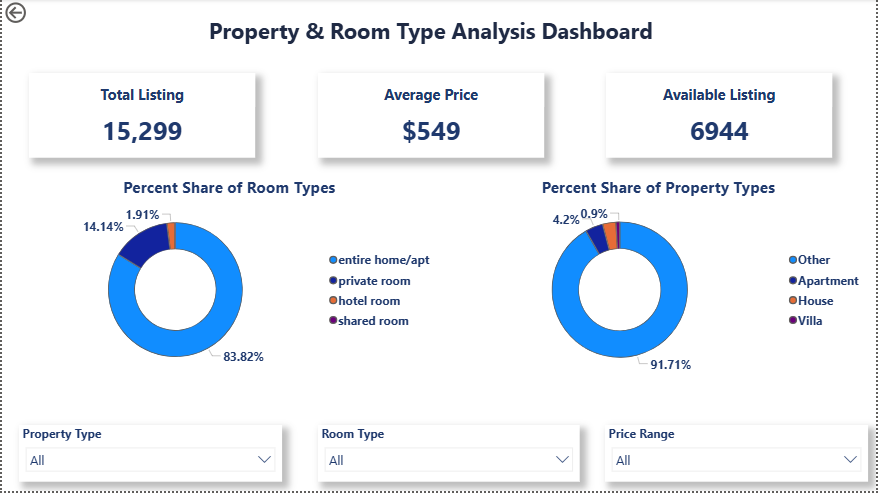

This screenshot's page, from the dashboard's own definition file:
{"tool":"powerbi","page":{"name":"Property & room type analysis","canvas":[1280,720],"ordinal":1},"visuals":[{"type":"donutChart","title":"Percent Share of Room Types","fields":{"Category":["M4_pro.room_type"],"Y":["M4_pro.Room Type % Share"]},"box":[25.1,259.8,615.6,299.7],"z":0},{"type":"card","title":"Total Listing","fields":{"Values":["M4_pro.Listings Count"]},"box":[39.9,107.8,330.7,124],"z":1000},{"type":"slicer","title":"Price Range","fields":{"Values":["M4_pro.Price Category"]},"box":[882.9,622.9,384.6,82.5],"z":2000},{"type":"textbox","box":[156.5,11.8,941.9,82.7],"z":3000},{"type":"card","title":"Average Price","fields":{"Values":["M4_pro.Average Price"]},"box":[462.1,107.8,330.7,124],"z":4000},{"type":"card","title":"Available Listing","fields":{"Values":["M4_pro.Total Hosts"]},"box":[884.3,107.8,330.7,124],"z":5000},{"type":"actionButton","box":[0,0,100,40],"z":6000},{"type":"donutChart","title":"Percent Share of Property Types","fields":{"Category":["M4_pro.Property_Type"],"Y":["M4_pro.Property Type % Share"]},"box":[652.5,259.8,615.6,299.7],"z":7000},{"type":"slicer","title":"Property Type","fields":{"Values":["M4_pro.Property_Type"]},"box":[24.9,622.9,384.6,82.5],"z":8000},{"type":"slicer","title":"Room Type","fields":{"Values":["M4_pro.room_type"]},"box":[462.5,622.9,383.1,82.5],"z":9000}]}

Visuals, with their boxes in screenshot pixels (x1, y1, x2, y2), scaled from the page's 1280x720 canvas onto the 878x496 screenshot:
"Percent Share of Room Types" donutChart: (left=17, top=179, right=439, bottom=385)
"Total Listing" card: (left=27, top=74, right=254, bottom=160)
"Price Range" slicer: (left=606, top=429, right=869, bottom=486)
textbox: (left=107, top=8, right=753, bottom=65)
"Average Price" card: (left=317, top=74, right=544, bottom=160)
"Available Listing" card: (left=607, top=74, right=833, bottom=160)
actionButton: (left=0, top=0, right=69, bottom=28)
"Percent Share of Property Types" donutChart: (left=448, top=179, right=870, bottom=385)
"Property Type" slicer: (left=17, top=429, right=281, bottom=486)
"Room Type" slicer: (left=317, top=429, right=580, bottom=486)
